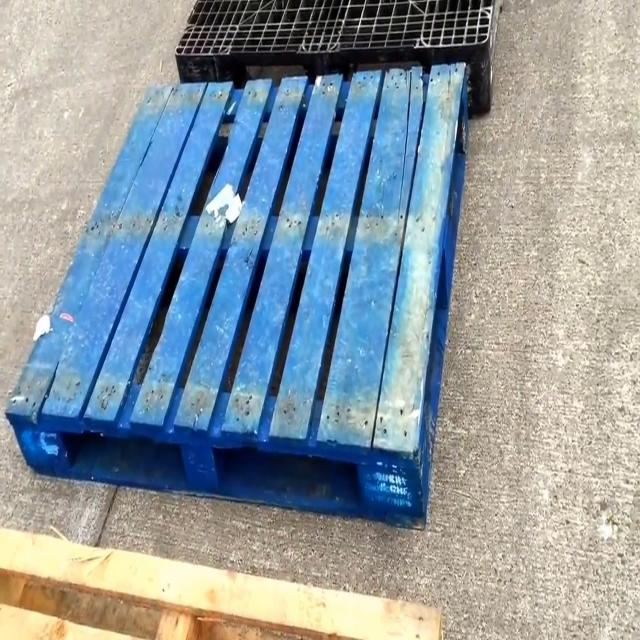Palette: (2, 60, 479, 528), (0, 518, 444, 640), (161, 0, 510, 124)
